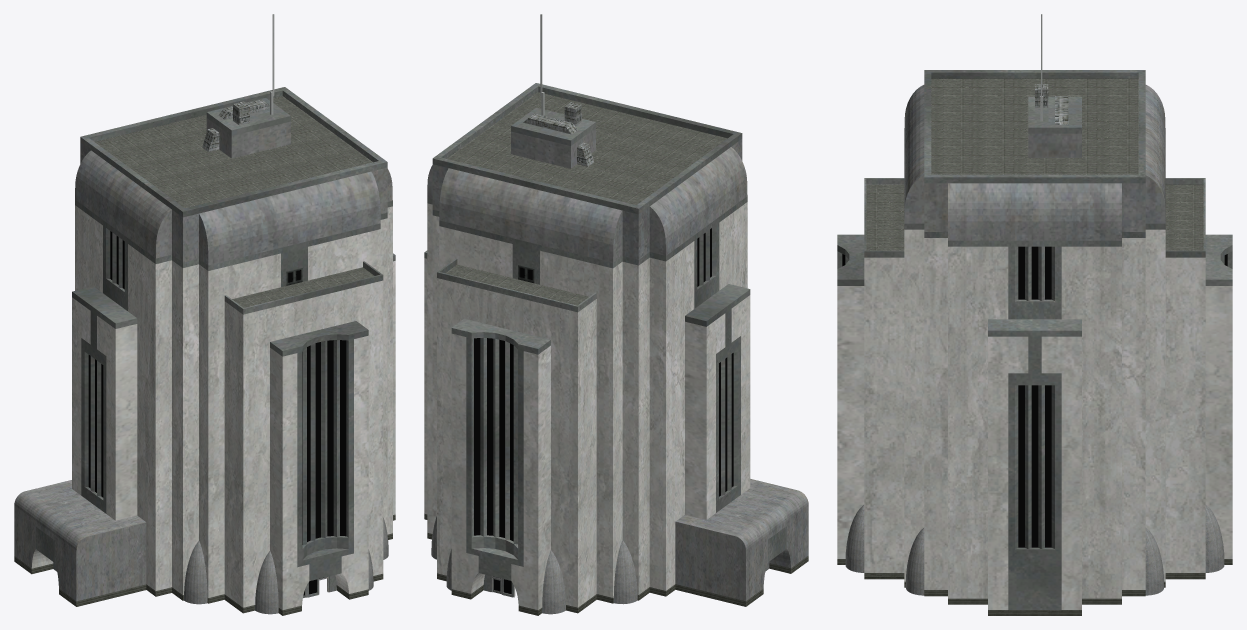
The model's file is thm_corl_imprv_building_s07_r0_mesh_l0.fbx.
The picture shows the model from 3 angles, left to right: view 1: azimuth 30°, elevation 25°; view 2: azimuth 150°, elevation 25°; view 3: azimuth 270°, elevation 25°; orthographic projection. The views are drawn at different scales.
Visible parts, largest first — view 1: mesh_node; view 2: mesh_node; view 3: mesh_node.
Boxes of the visible parts, box(x1,y1,x2,y2) form: mesh_node: box(14, 14, 395, 615); mesh_node: box(424, 14, 808, 615); mesh_node: box(837, 14, 1232, 615).
Size of the model in its own units: 61 by 90.7 by 59.
